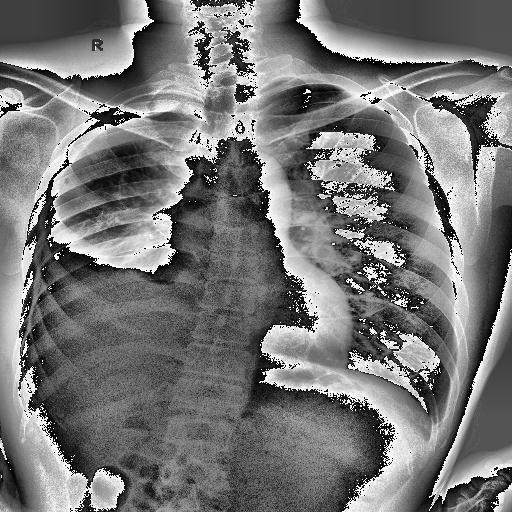10- Pleural effusion: (28, 186, 186, 358), (32, 197, 168, 351), (36, 228, 186, 338), (48, 94, 188, 178)
11- Pleural thickening: (48, 94, 188, 178)
13- Pulmonary fibrosis: (70, 229, 160, 262), (86, 236, 166, 260)
